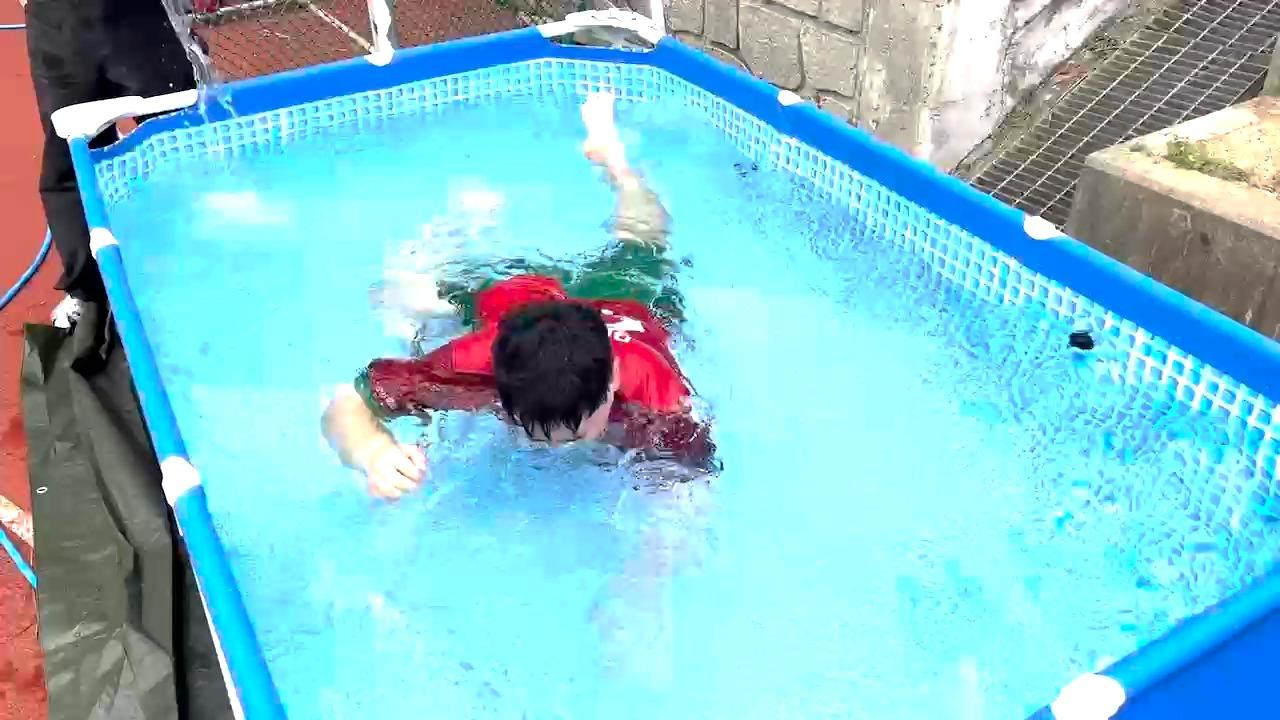Drowning: (337, 50, 748, 562)
